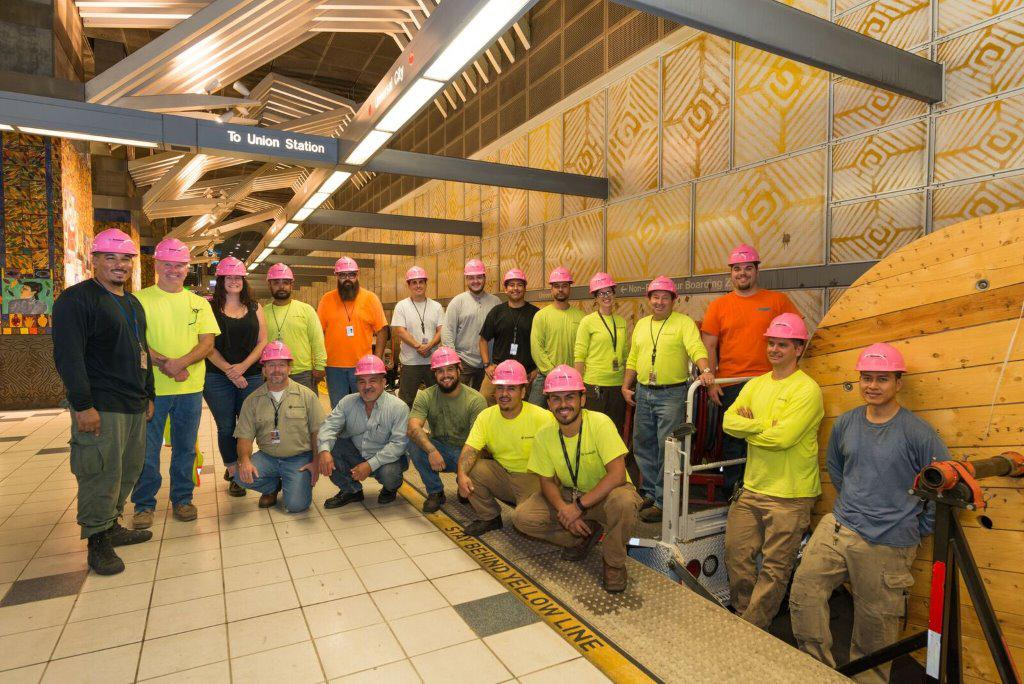hardhat: (854, 342, 911, 376), (761, 316, 814, 344), (89, 228, 140, 257), (541, 363, 587, 395), (492, 362, 531, 388), (426, 346, 465, 371), (155, 239, 191, 266), (353, 356, 390, 378), (217, 257, 252, 278), (729, 247, 764, 267), (259, 343, 294, 362), (648, 274, 679, 295), (267, 263, 298, 283), (466, 258, 490, 278), (549, 266, 575, 284), (336, 257, 361, 275), (404, 267, 430, 282)
worker: (788, 344, 952, 684), (50, 229, 161, 574), (721, 314, 823, 630), (513, 366, 649, 594), (622, 277, 713, 521), (234, 342, 326, 514)
